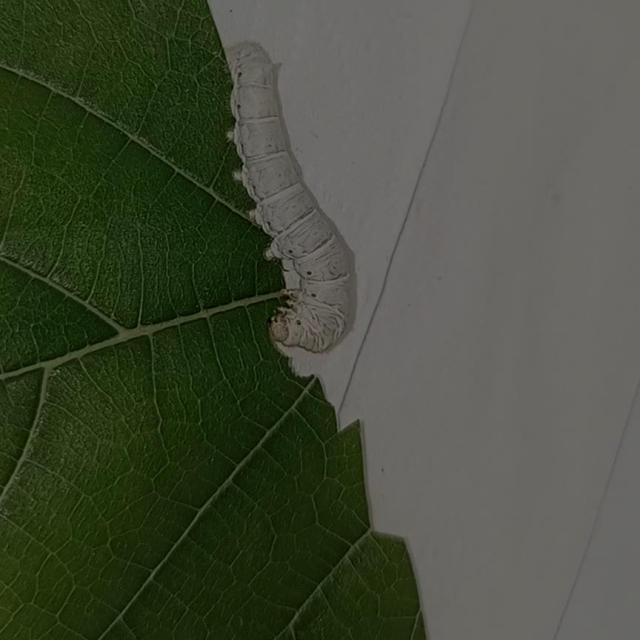Healthy: (216, 32, 362, 362)
